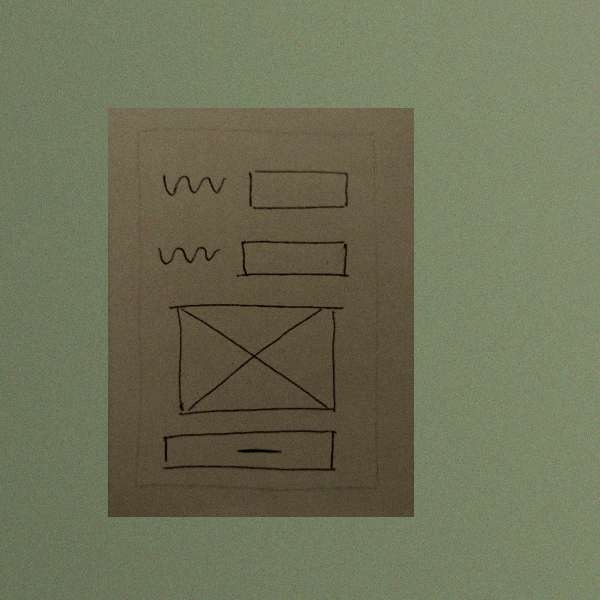button: (157, 426, 343, 475)
image: (163, 297, 349, 419)
text: (159, 165, 236, 210), (151, 234, 225, 272)
text_input: (232, 234, 358, 285), (243, 163, 358, 218)
